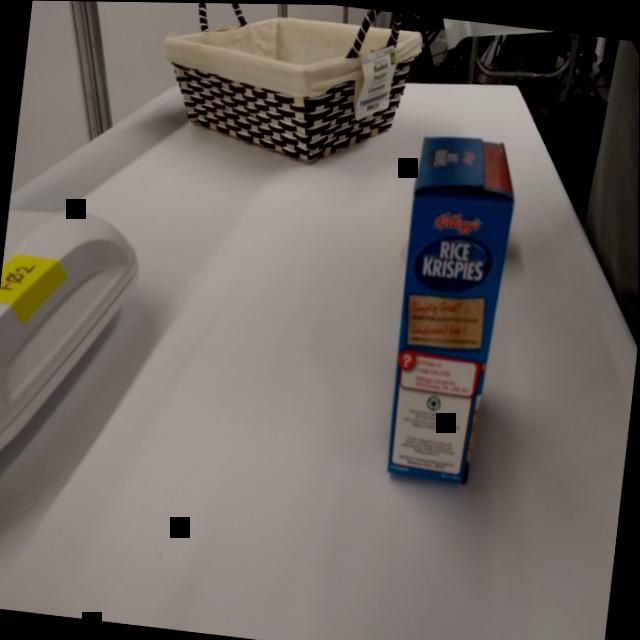basket: (146, 2, 427, 187)
cereal: (373, 125, 527, 491)
